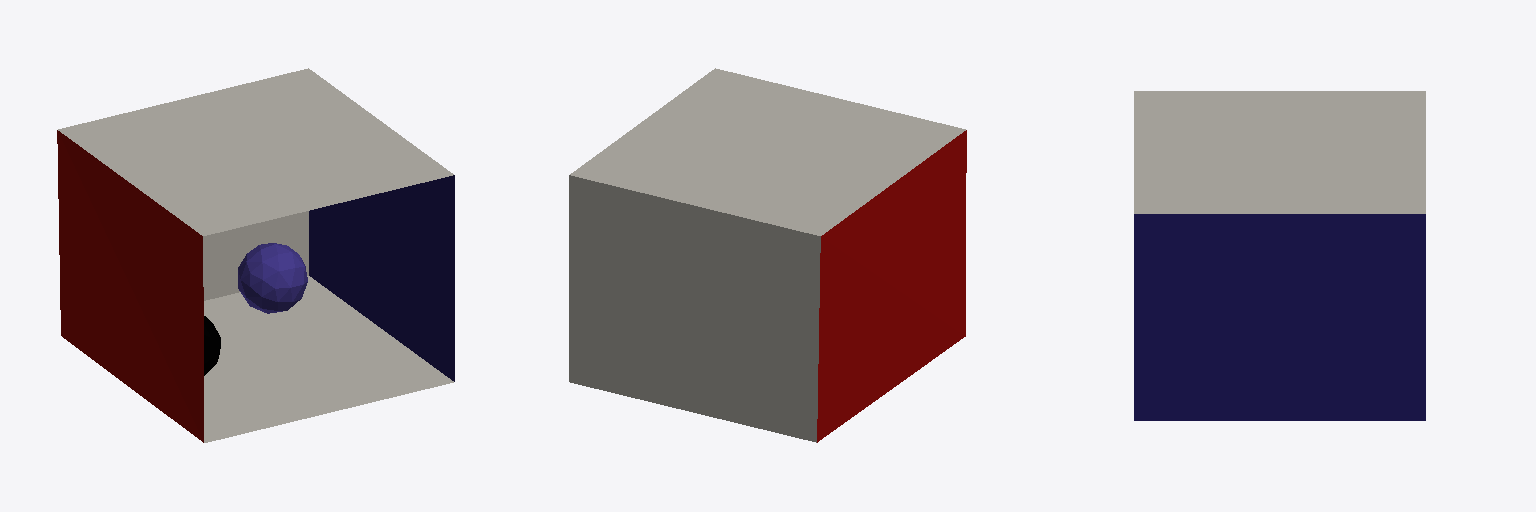
Rendered from CornellBox-Sphere-489.obj.
The picture shows the model from 3 angles: view 1: azimuth 30°, elevation 25°; view 2: azimuth 150°, elevation 25°; view 3: azimuth 270°, elevation 25°; orthographic projection.
Parts seen in each view (by area): view 1: ceiling, leftWall, floor, rightWall, backWall, leftSphere, rightSphere; view 2: backWall, ceiling, leftWall; view 3: rightWall, ceiling.
Boxes of the visible parts, x1=… form: ceiling: x1=58, y1=68, x2=453, y2=235; leftWall: x1=57, y1=130, x2=203, y2=442; floor: x1=204, y1=276, x2=453, y2=442; rightWall: x1=309, y1=175, x2=454, y2=381; backWall: x1=203, y1=211, x2=308, y2=300; leftSphere: x1=238, y1=243, x2=307, y2=313; rightSphere: x1=204, y1=316, x2=220, y2=375; backWall: x1=569, y1=175, x2=820, y2=442; ceiling: x1=570, y1=68, x2=965, y2=235; leftWall: x1=817, y1=130, x2=966, y2=442; rightWall: x1=1134, y1=214, x2=1425, y2=420; ceiling: x1=1134, y1=91, x2=1425, y2=213.
Bounding box in the file's own units: 2.02 × 1.59 × 2.03.